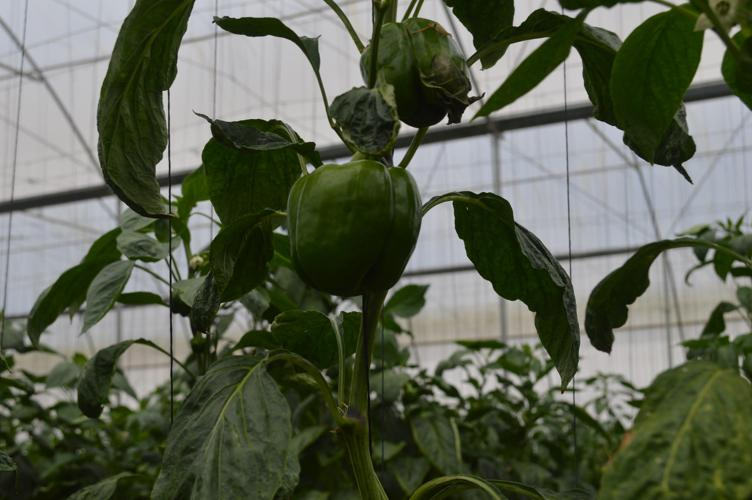BellPepper: (289, 161, 422, 303), (379, 20, 467, 129)
